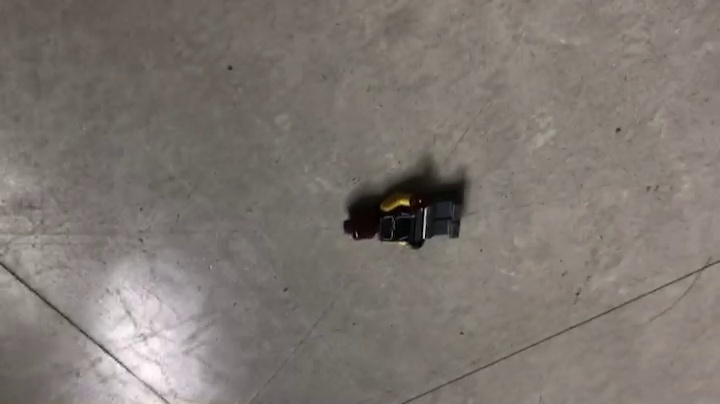people: (342, 168, 465, 252)
